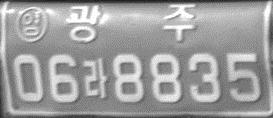0: (13, 53, 43, 102)
3: (187, 53, 221, 103)
5: (225, 52, 261, 102)
6: (47, 52, 79, 103)
8: (149, 52, 182, 103), (111, 53, 144, 103)
광주_D: (66, 4, 196, 42)
라: (81, 57, 108, 99)
영: (15, 6, 48, 43)
